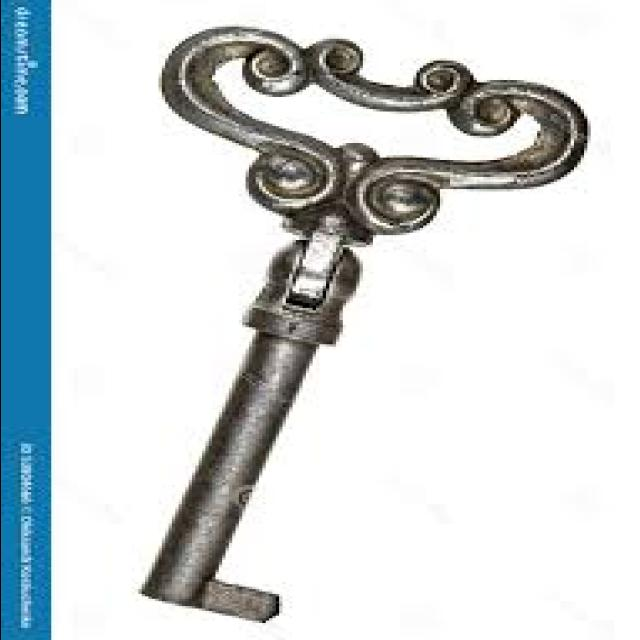key: (80, 17, 620, 640)
